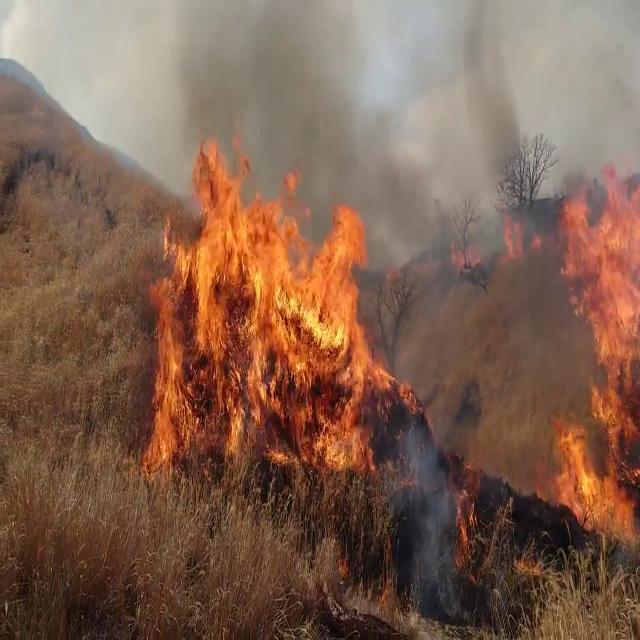Fire: (144, 128, 403, 470), (548, 145, 640, 550), (494, 200, 540, 270)
Smoke: (391, 1, 639, 294), (118, 0, 408, 193), (377, 408, 484, 607)
